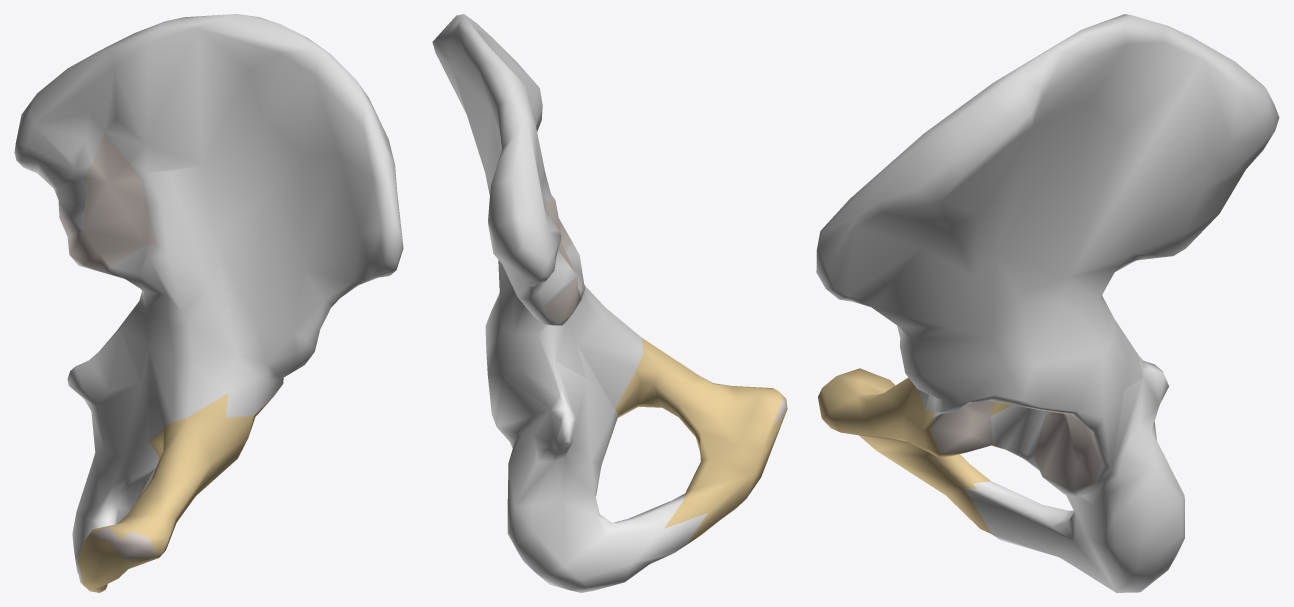
File: HIP_l.fbx
3 renders of one model, left to right at view 1: azimuth 30°, elevation 25°; view 2: azimuth 150°, elevation 25°; view 3: azimuth 270°, elevation 25°, orthographic. The views are drawn at different scales.
Parts seen in each view (by area): view 1: Hip bone.l.001; view 2: Hip bone.l.001; view 3: Hip bone.l.001.
Boxes of the visible parts, x1=… form: Hip bone.l.001: x1=14, y1=14, x2=403, y2=592; Hip bone.l.001: x1=432, y1=14, x2=787, y2=592; Hip bone.l.001: x1=816, y1=14, x2=1279, y2=592.
Bounding box in the file's own units: 13.18 × 21.49 × 14.28.
